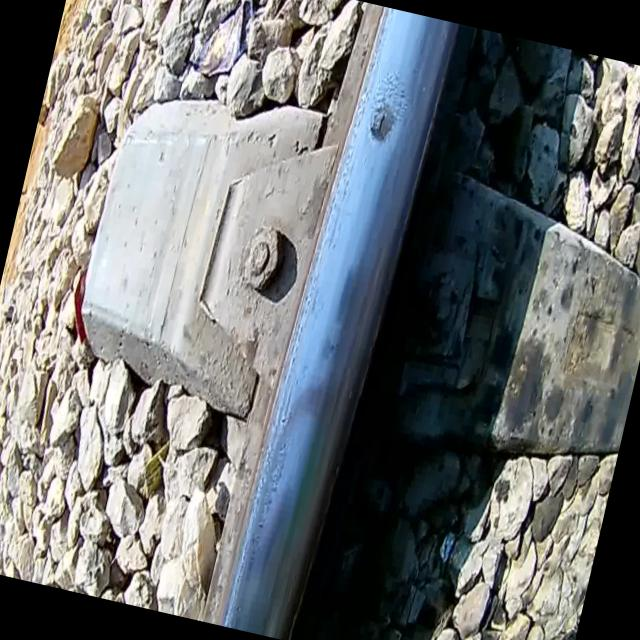Spallings: (371, 102, 392, 144)
Squats: (360, 83, 407, 156)
